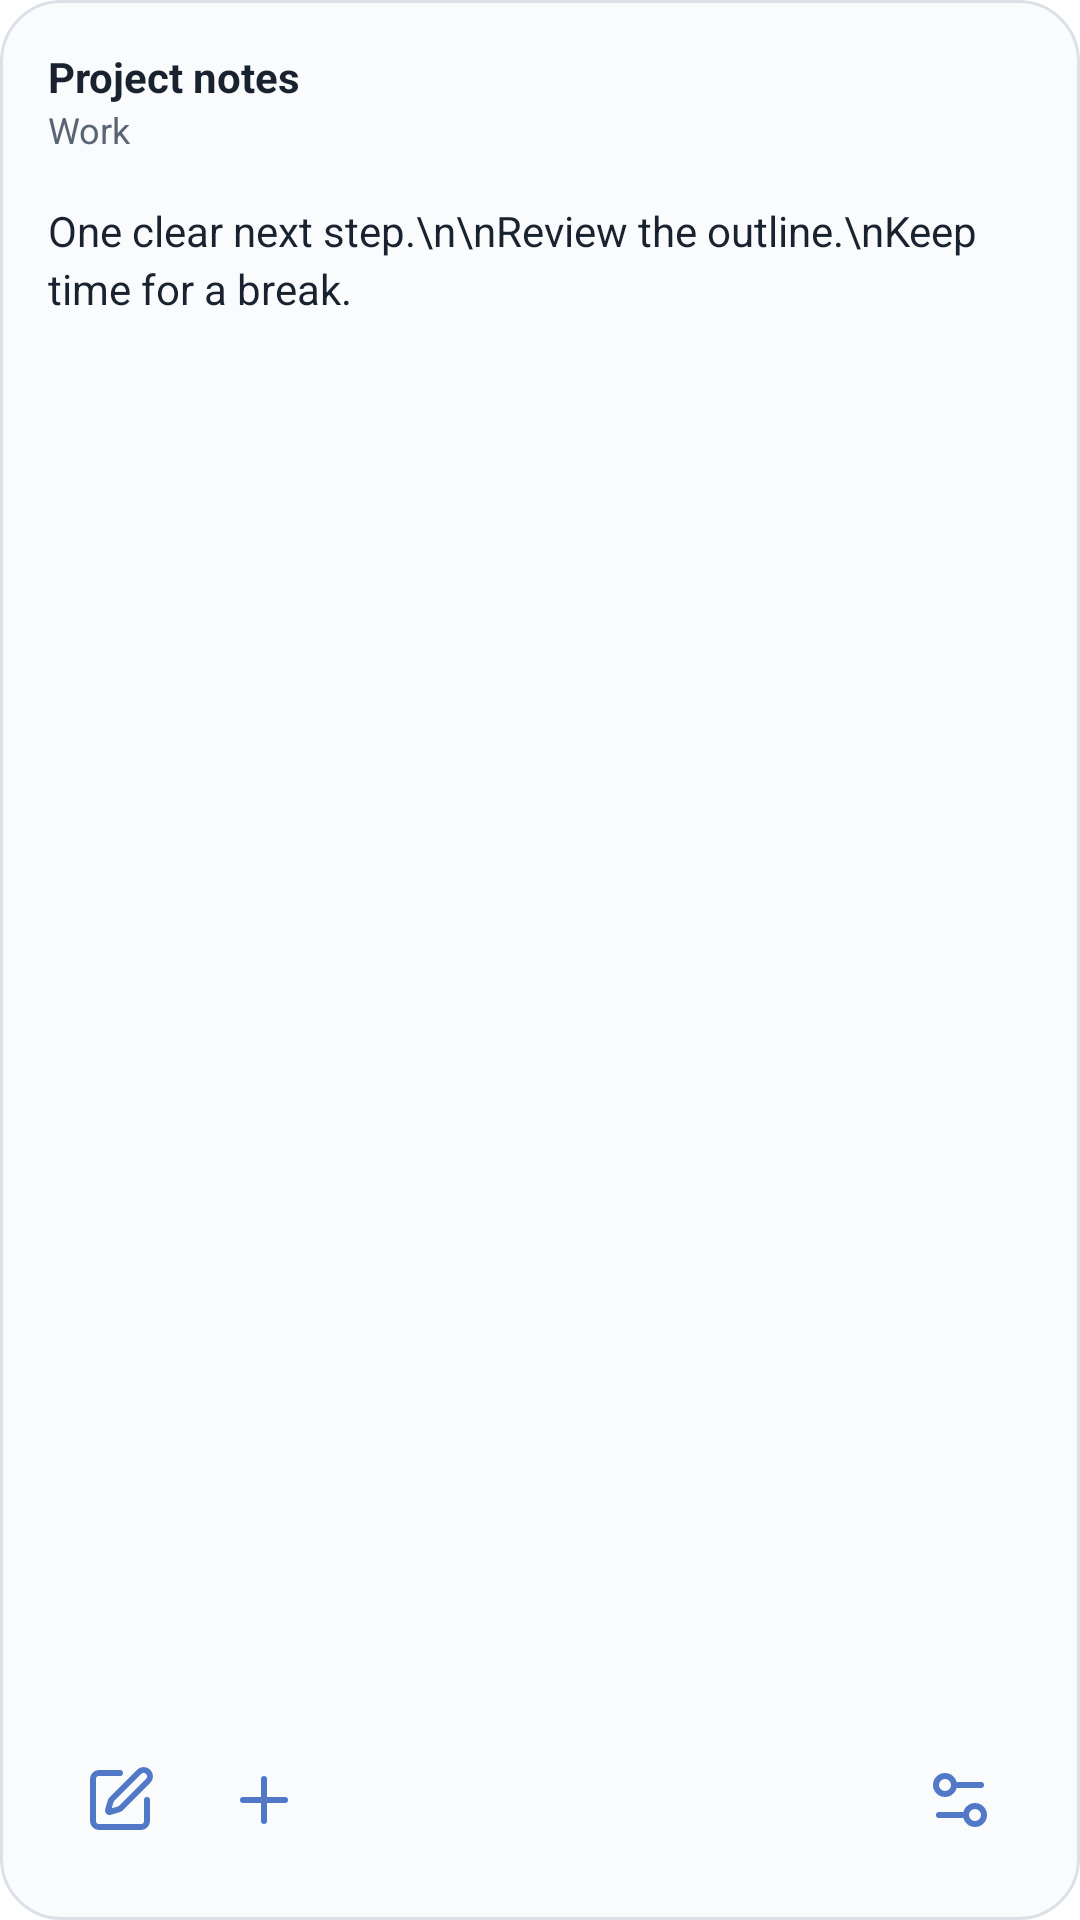

Screen size 1080*1920. Icon name, then its box in pixels as box=[x1, y1, x2, y2]:
Configure widget: box=[933, 1773, 987, 1827]
Edit selected note: box=[90, 1767, 153, 1830]
New note: box=[240, 1776, 288, 1824]
